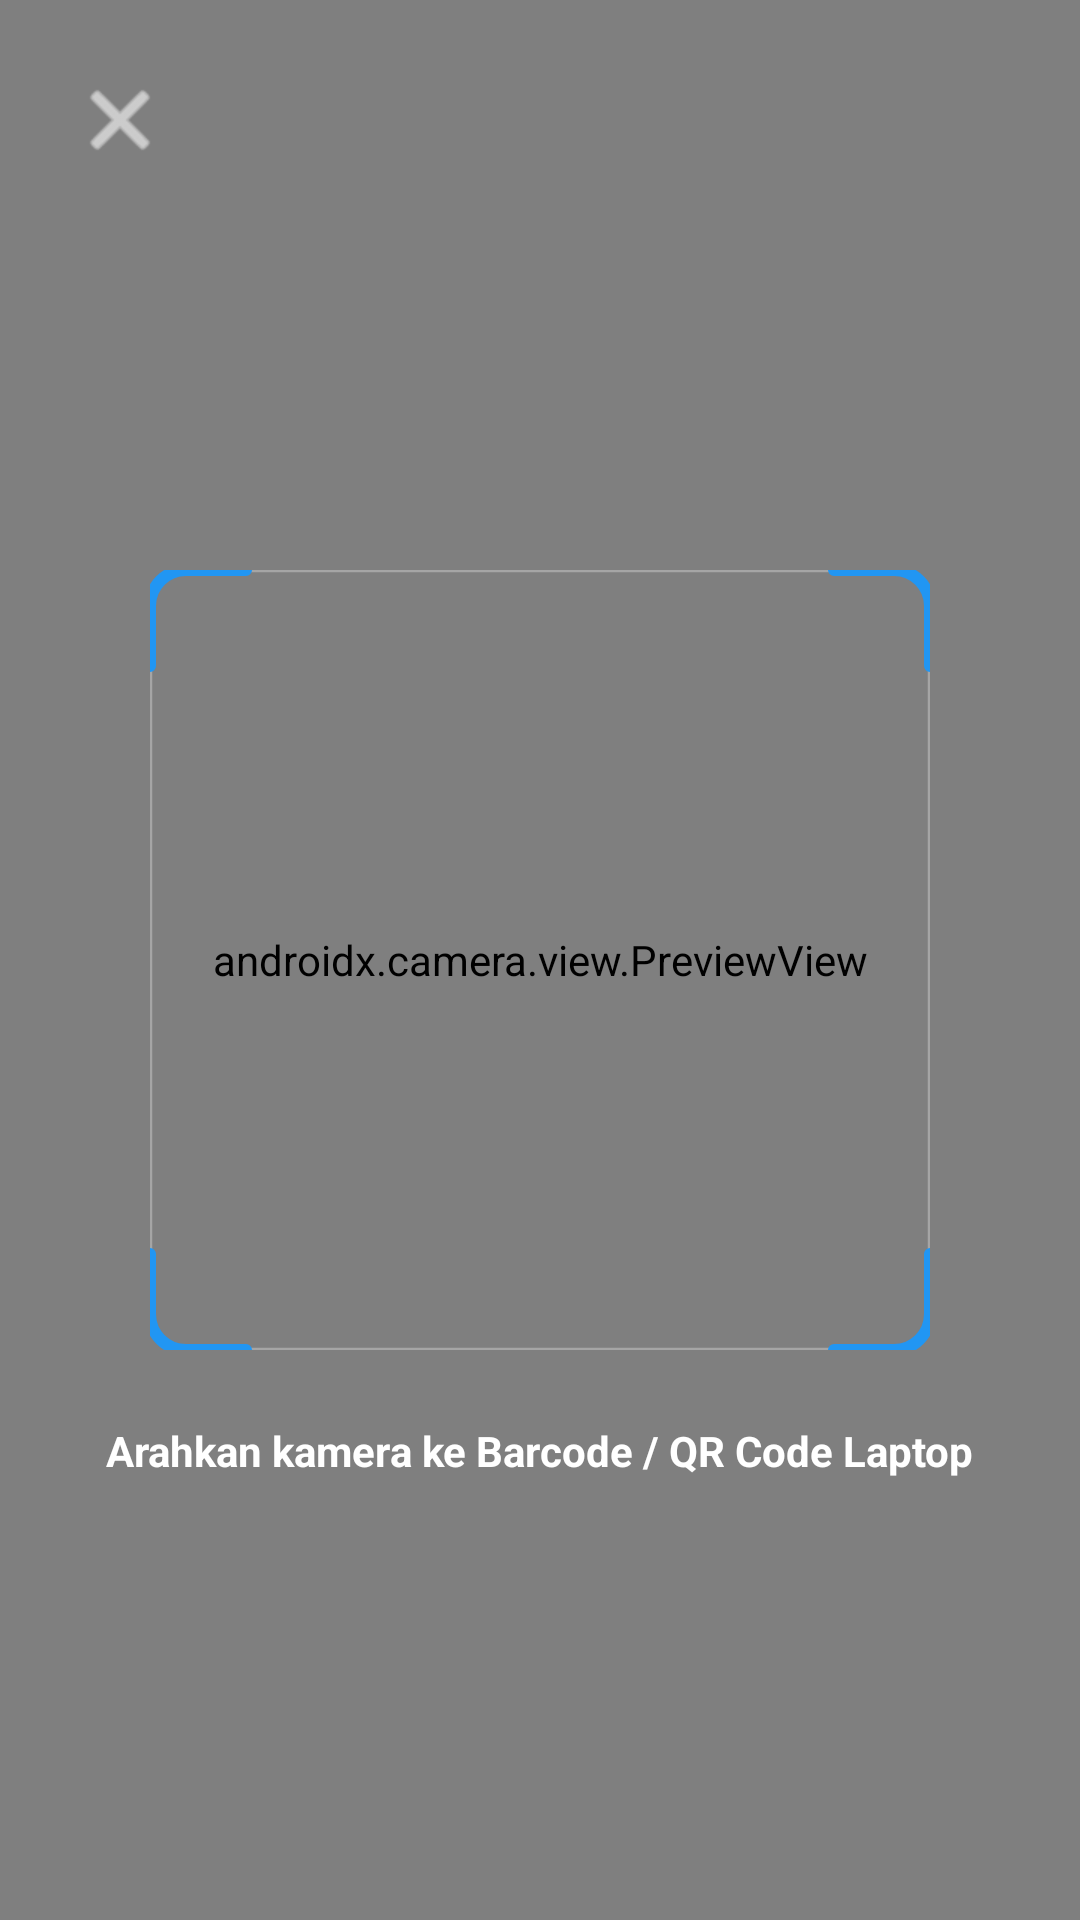

Named icons in this screenshot (1080x1920) and their centers, (x,y):
Tutup: (120,120)
